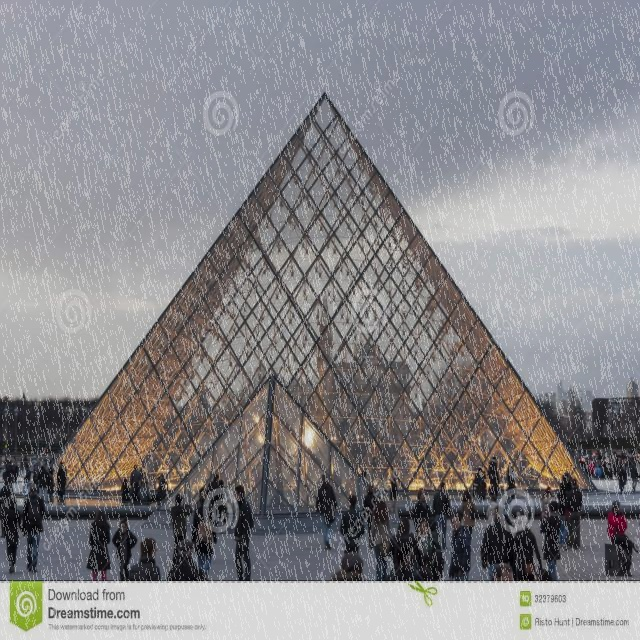pessoa: (126, 534, 165, 640), (564, 430, 640, 483), (190, 493, 219, 588), (478, 504, 514, 580), (606, 498, 640, 578), (368, 494, 394, 586), (21, 481, 46, 574), (538, 500, 562, 594), (510, 514, 543, 582), (232, 484, 252, 582), (314, 471, 338, 552), (2, 496, 26, 576), (169, 492, 194, 568), (86, 508, 112, 581), (18, 444, 50, 502), (166, 538, 208, 582), (384, 538, 425, 582), (112, 517, 138, 581), (448, 512, 472, 580), (339, 494, 366, 554), (388, 516, 419, 568), (562, 478, 583, 552), (420, 518, 444, 582), (560, 470, 578, 548), (486, 562, 561, 580), (432, 481, 450, 551), (461, 489, 478, 553), (330, 551, 366, 581), (362, 484, 378, 548), (412, 487, 432, 538), (205, 472, 221, 535), (0, 478, 14, 540), (215, 478, 230, 534), (557, 480, 569, 548), (412, 557, 445, 581), (498, 508, 514, 556), (35, 464, 51, 510), (266, 485, 286, 516), (415, 518, 431, 554), (128, 463, 142, 502), (386, 476, 399, 518), (330, 468, 343, 510), (194, 486, 213, 514), (541, 485, 560, 513), (56, 463, 68, 498), (485, 495, 498, 527), (505, 464, 516, 500), (616, 464, 628, 496), (135, 466, 151, 488), (46, 466, 56, 500), (58, 462, 68, 496), (472, 466, 482, 500), (478, 469, 487, 506), (137, 479, 152, 501), (629, 459, 639, 492), (490, 470, 500, 500), (120, 478, 132, 502), (480, 469, 488, 503), (6, 459, 15, 488), (158, 472, 166, 502), (486, 456, 498, 476), (486, 496, 496, 520), (360, 470, 372, 486), (588, 457, 595, 482), (10, 454, 17, 478), (13, 460, 20, 482), (22, 453, 28, 476), (51, 468, 57, 486), (19, 454, 24, 475), (4, 456, 10, 471), (638, 519, 640, 531)
